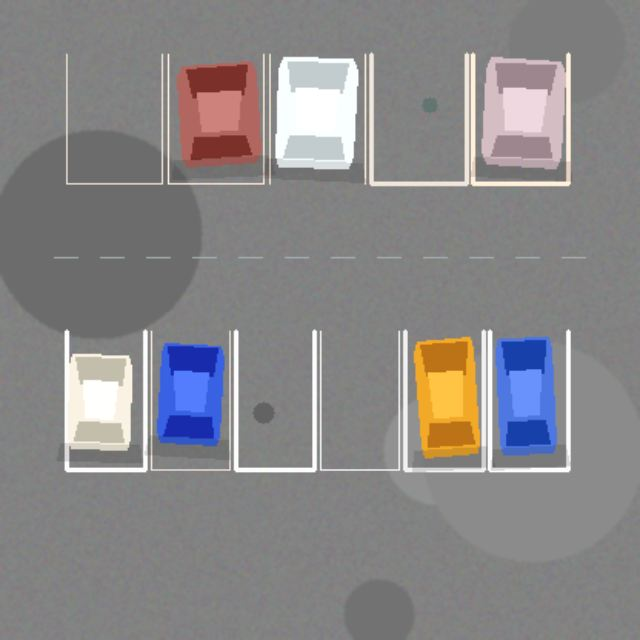space-empty: (66, 54, 162, 183), (371, 54, 466, 183), (235, 331, 314, 469), (320, 331, 398, 469)
space-occupied: (269, 54, 365, 183), (472, 54, 568, 183), (168, 54, 263, 183), (66, 331, 145, 469), (489, 331, 568, 469), (151, 331, 229, 469), (405, 331, 483, 469)
